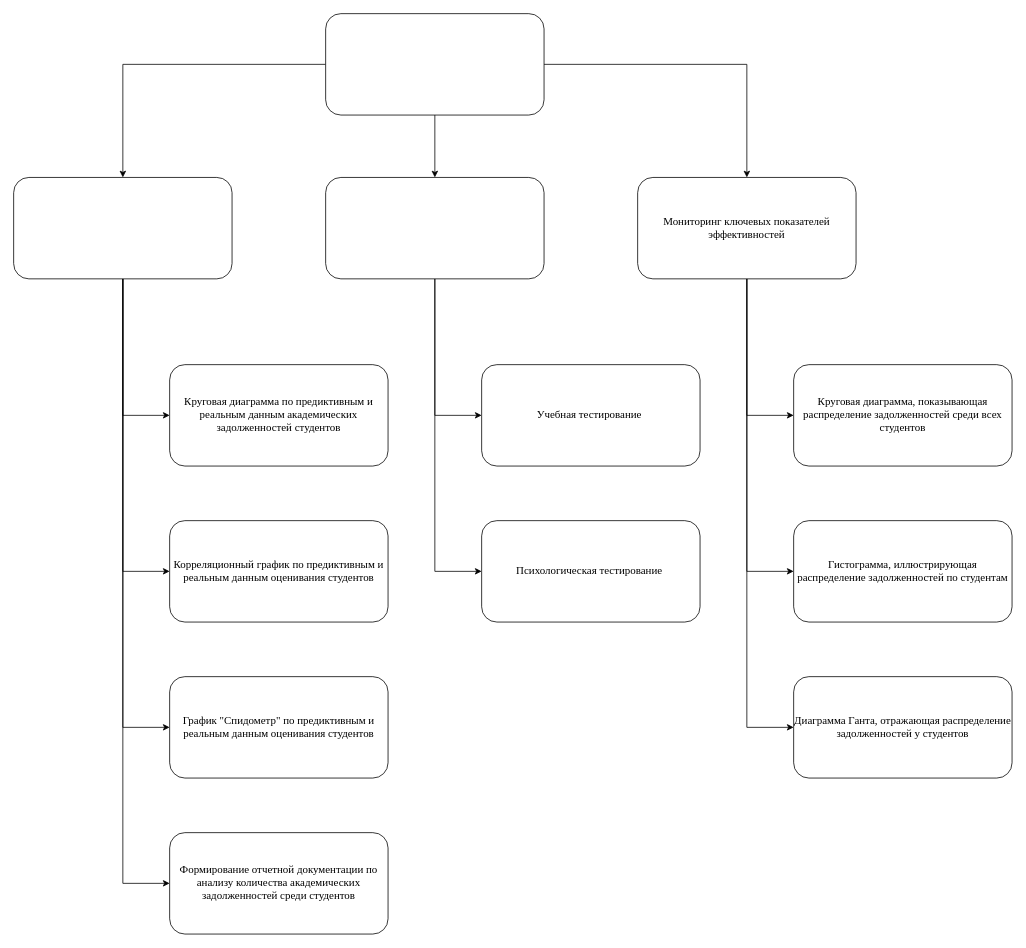
Image size: 1026x948. Some labels were removed from this diagram. Each missing label, with the box of its shape:
Ликвидация академических задолженностей: (325, 13, 544, 115)
Статистика: (13, 177, 232, 279)
Тестирование: (325, 177, 544, 279)
